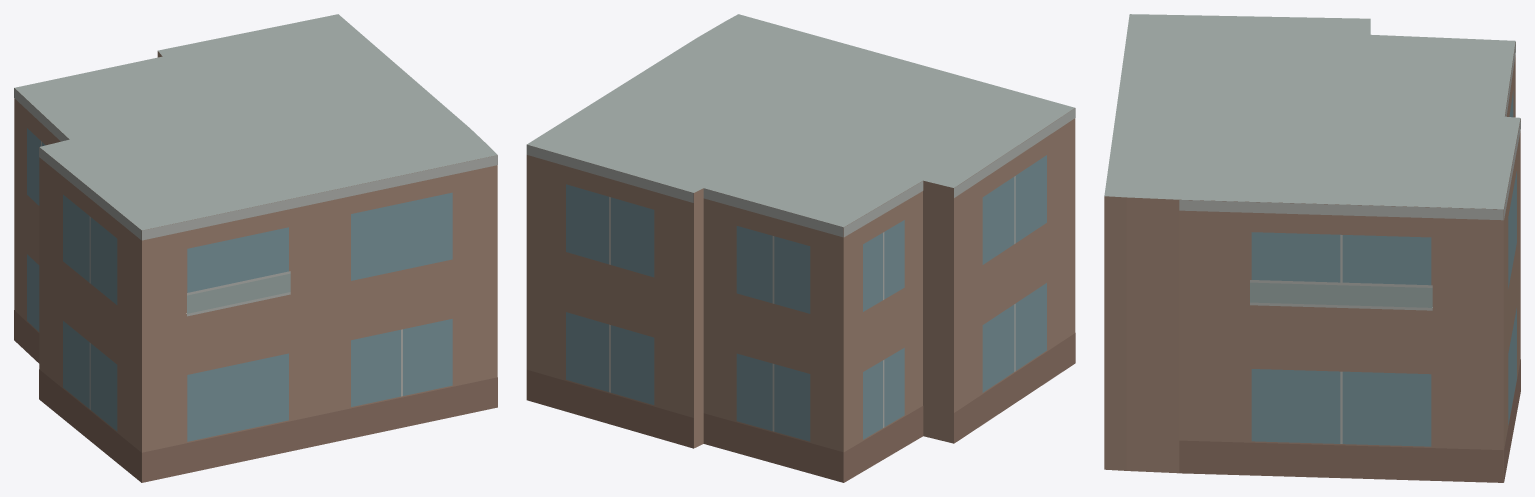
The model's file is survey-upis-33028386.glb.
3 views of the same model, side by side, from view 1: azimuth 30°, elevation 25°; view 2: azimuth 150°, elevation 25°; view 3: azimuth 270°, elevation 25° (orthographic). The views are drawn at different scales.
Parts seen in each view (by area): view 1: survey-upis-33028386.tmp; view 2: survey-upis-33028386.tmp; view 3: survey-upis-33028386.tmp.
Boxes of the visible parts, box(x1,y1,x2,y2) form: survey-upis-33028386.tmp: box(14, 14, 497, 482); survey-upis-33028386.tmp: box(526, 14, 1075, 482); survey-upis-33028386.tmp: box(1104, 14, 1520, 482).
Bounding box in the file's own units: 9.35 × 6.1 × 8.43.
